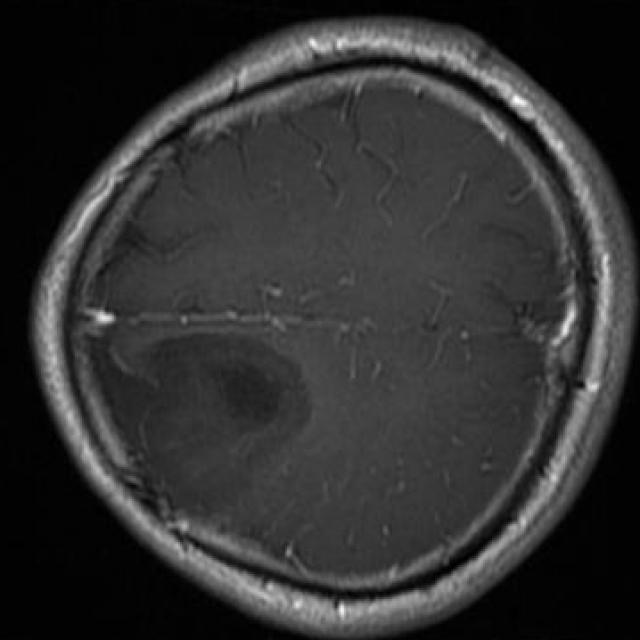glioma: (91, 332, 312, 517)
